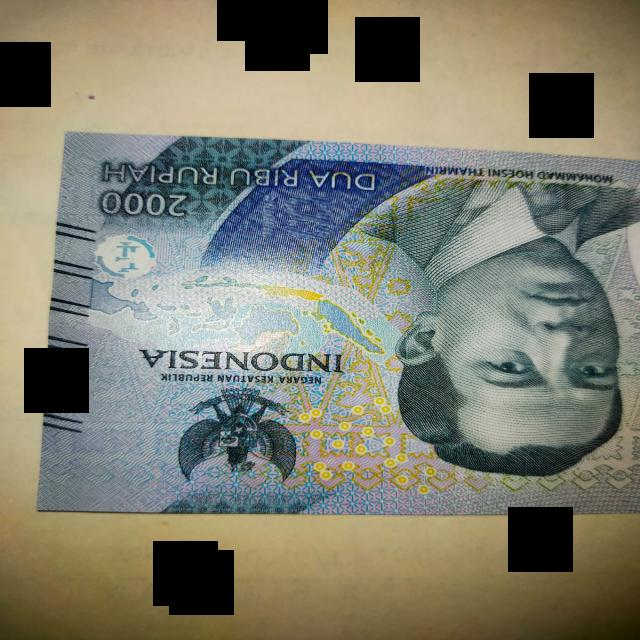dua ribu rupiah: (38, 132, 638, 514)
